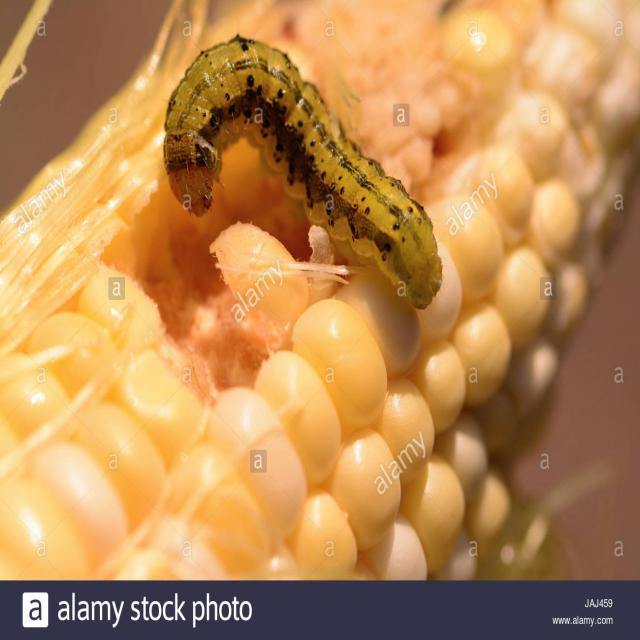Corn-earworm: (160, 16, 452, 322)
